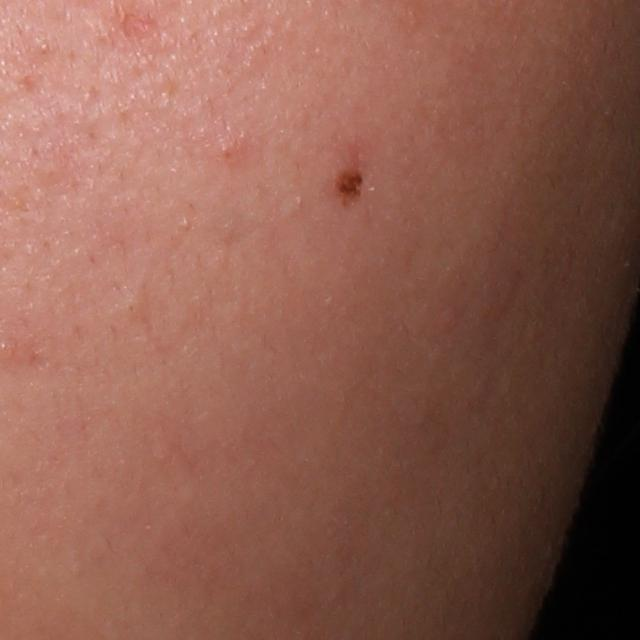comedo: (215, 139, 244, 165), (117, 294, 143, 320)
nevus: (328, 143, 371, 218)
